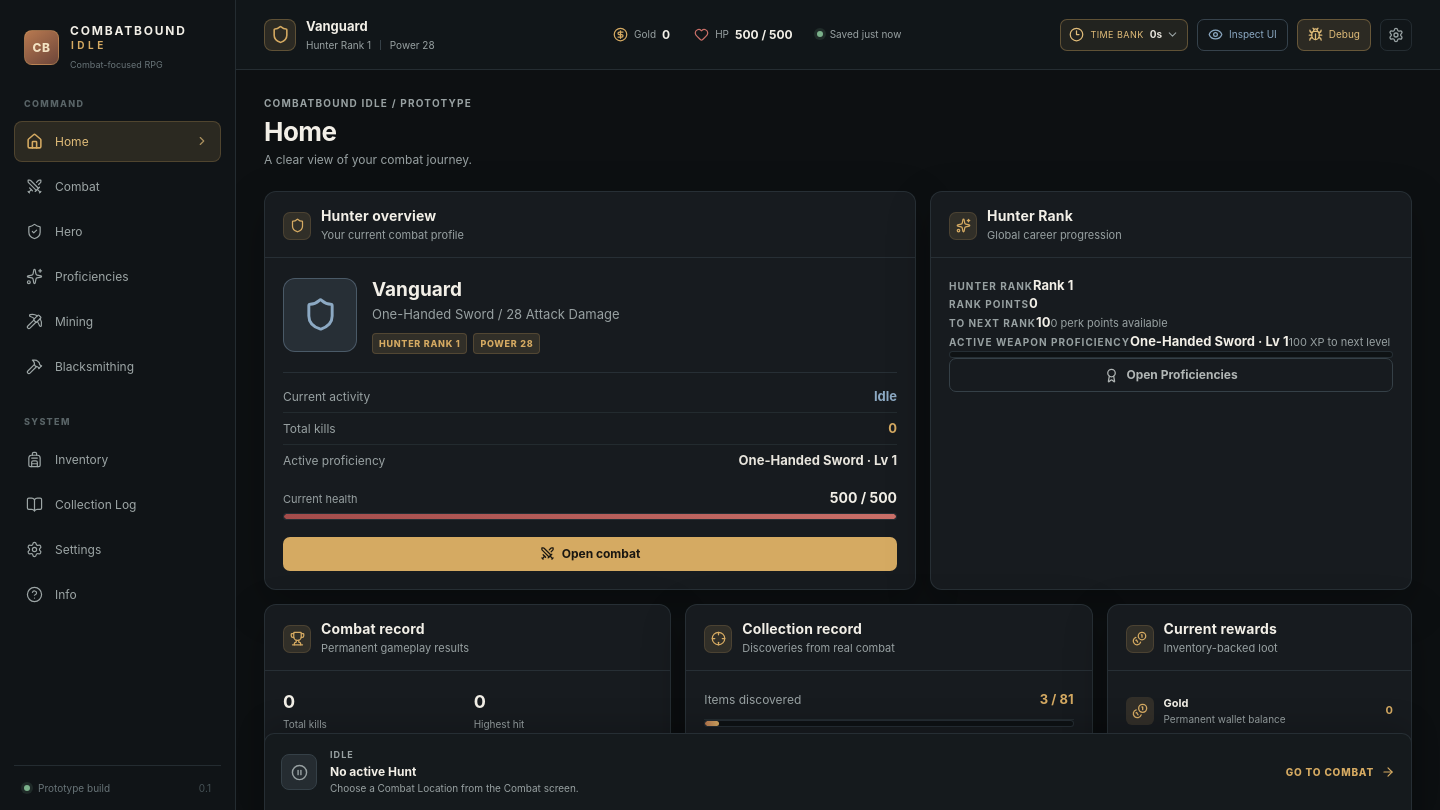
Scenario: combat world atlas browser › drills from World to Greenvale, Northwood, Deep Woods, and Wolfscar Hollow
Click the button "Combat".
click(118, 186)  # box [14,166,221,207]
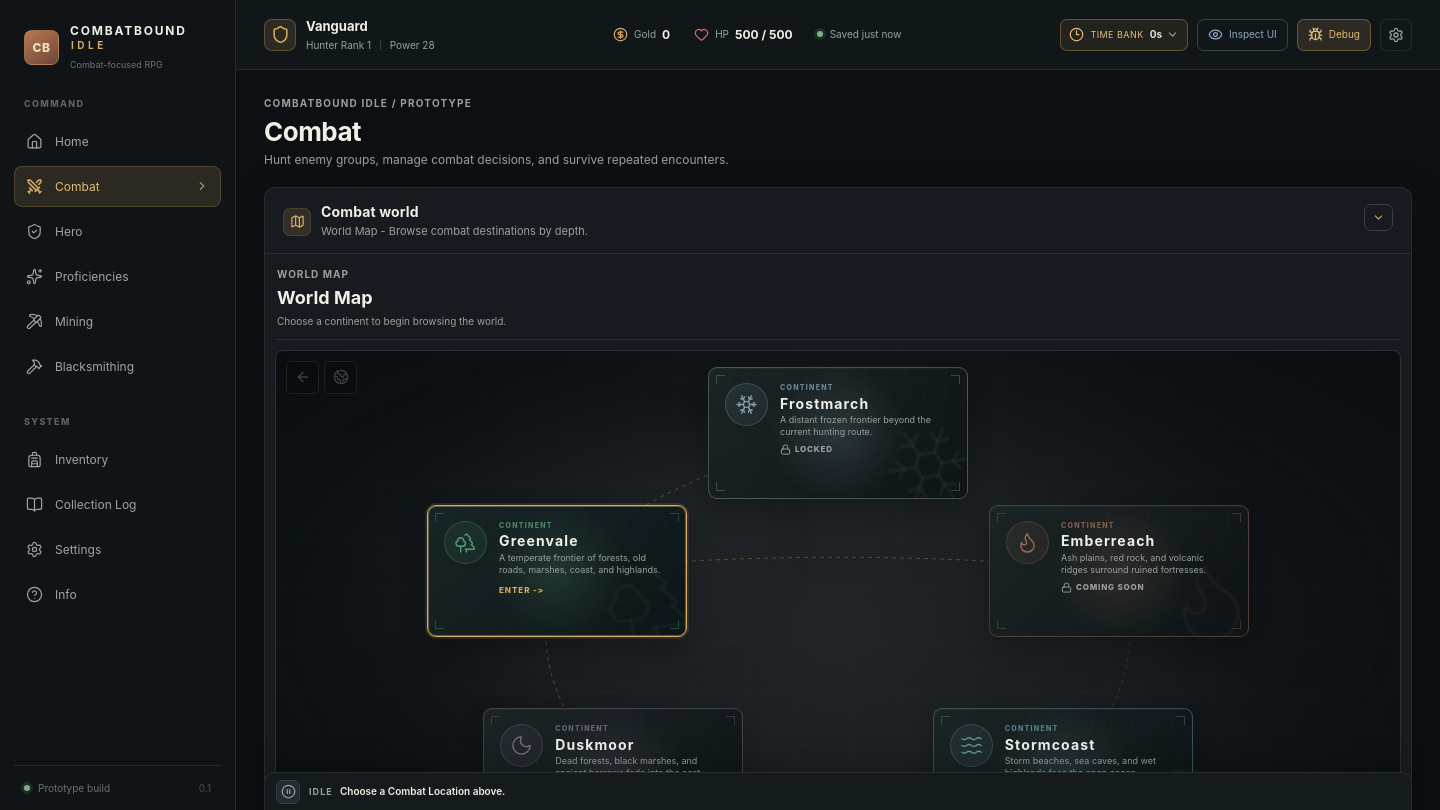
Now the text "Greenvale" is shown, box [499,532,579,549]
Now the text "Frostmarch" is shown, box [780,395,869,412]
Now the text "Emberreach" is shown, box [1061,532,1155,549]
Click the button with aria-label "Open Greenvale".
click(557, 571)  # box [427,505,687,637]
Wait 190 ms
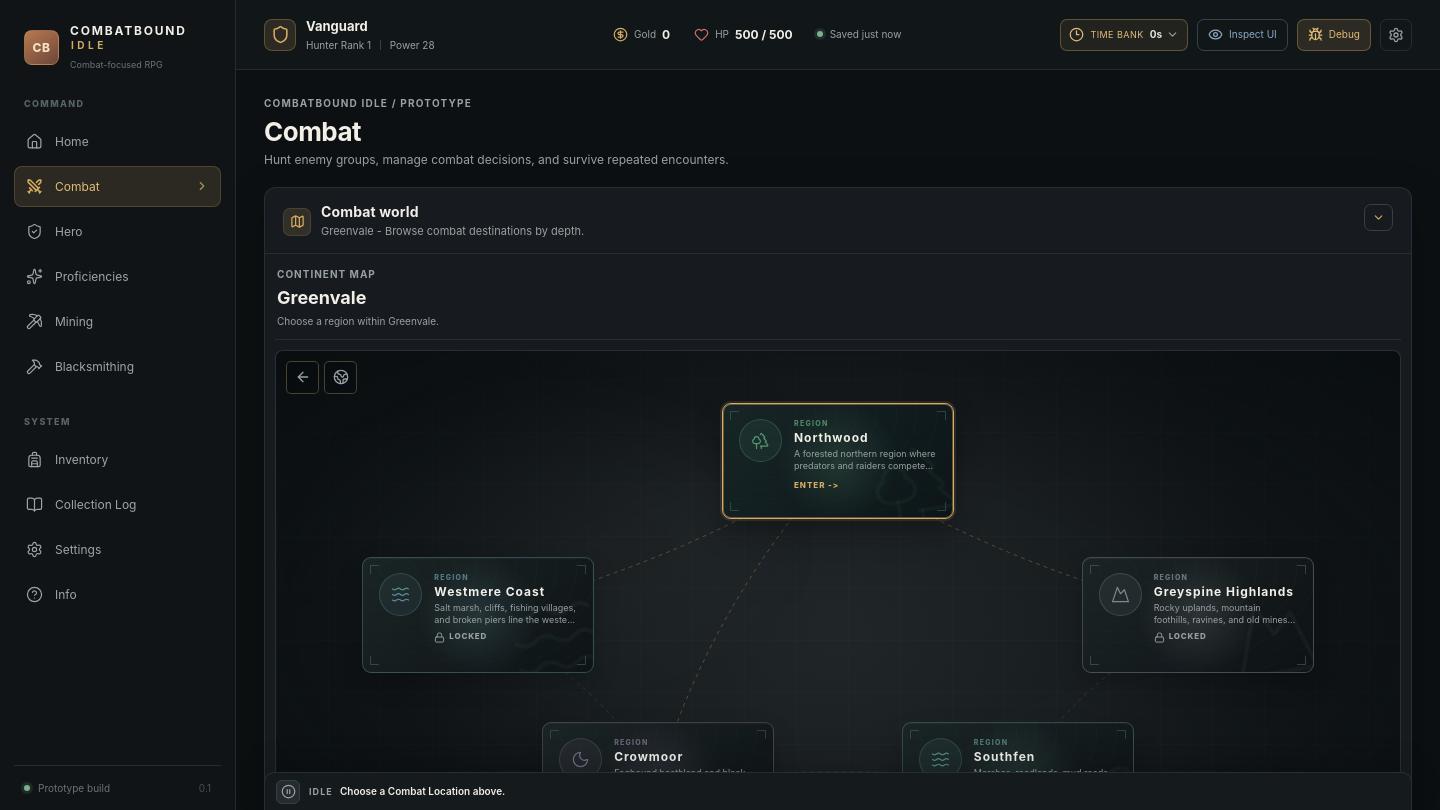
Click the button with aria-label "Open Northwood".
click(838, 461)  # box [722,403,954,519]
Wait 190 ms
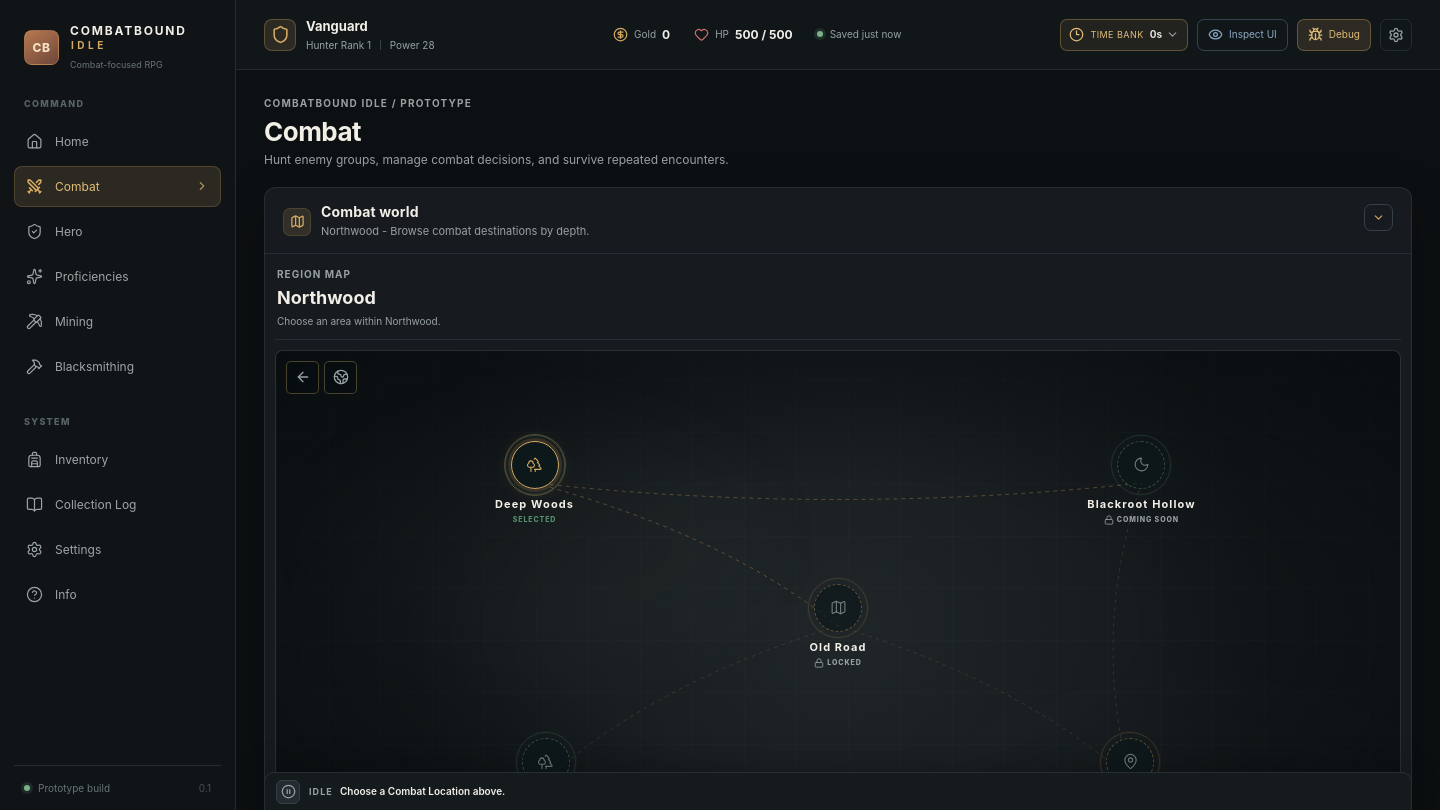
Click the button with aria-label "Open Deep Woods".
click(534, 483)  # box [450,436,620,530]
Wait 190 ms
(page scrolled)
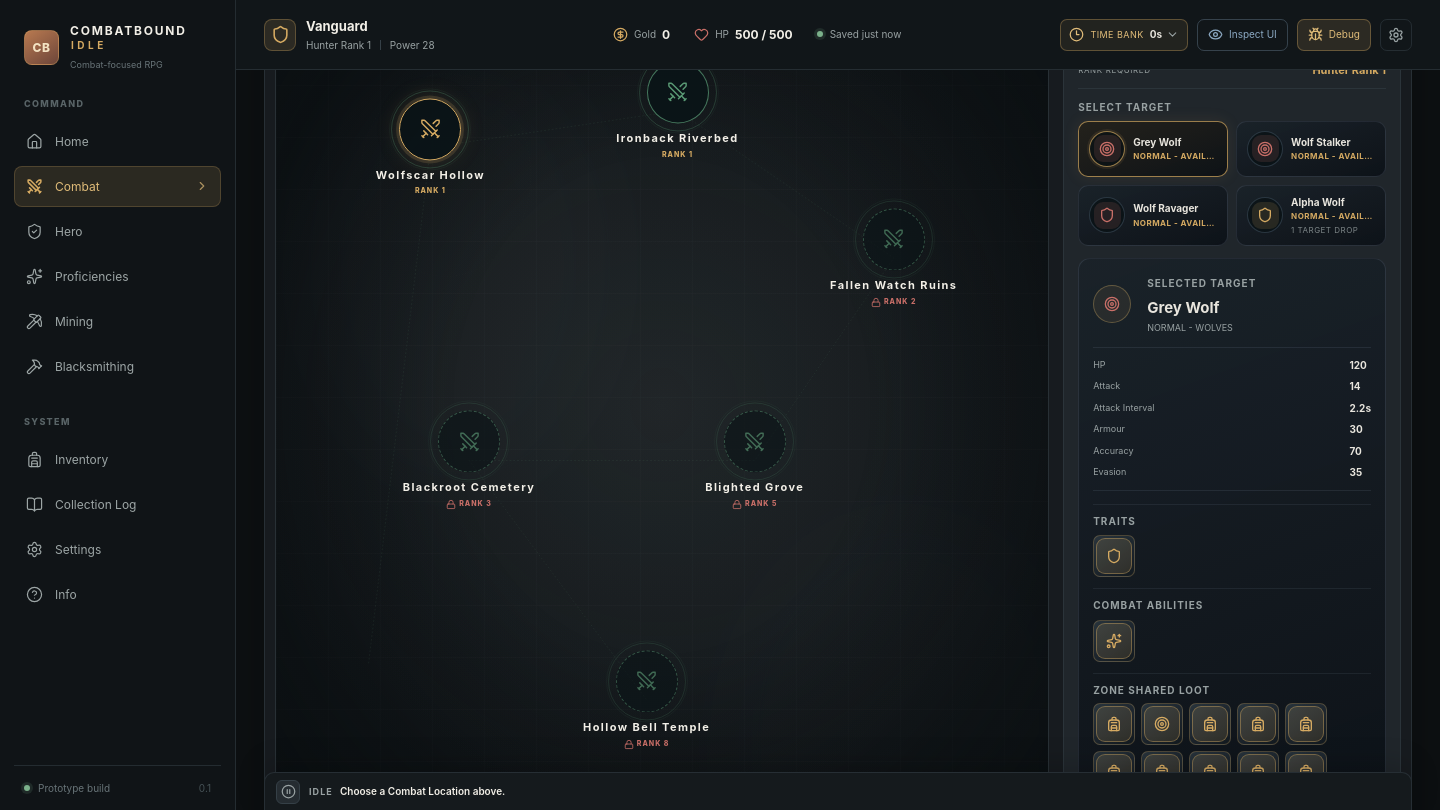
Now the button "Wolfscar Hollow RANK 1" is shown, box [355,92,505,203]
Now the text "SELECT TARGET" is shown, box [1078,101,1172,113]
